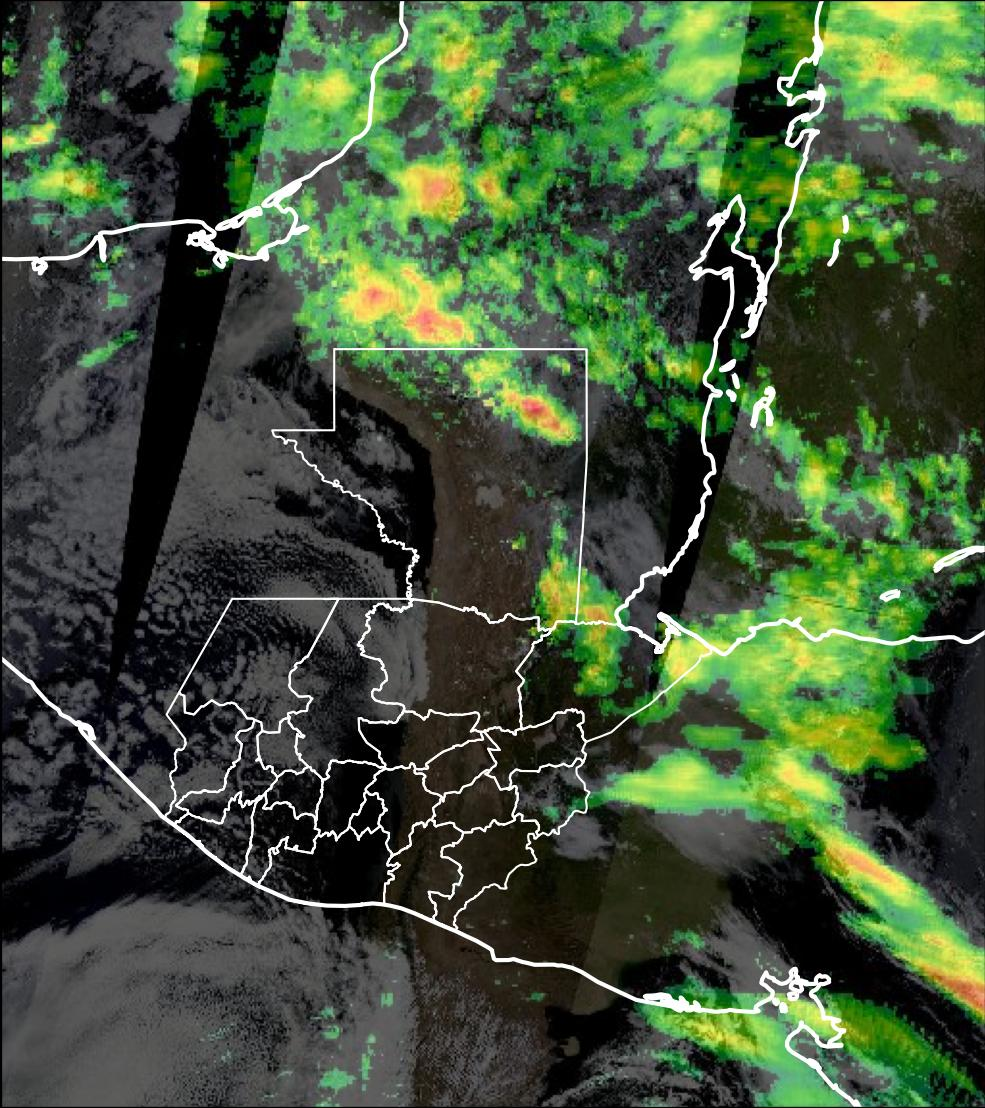precipitacion: (353, 268, 476, 349), (909, 952, 985, 1020), (499, 388, 575, 453)
